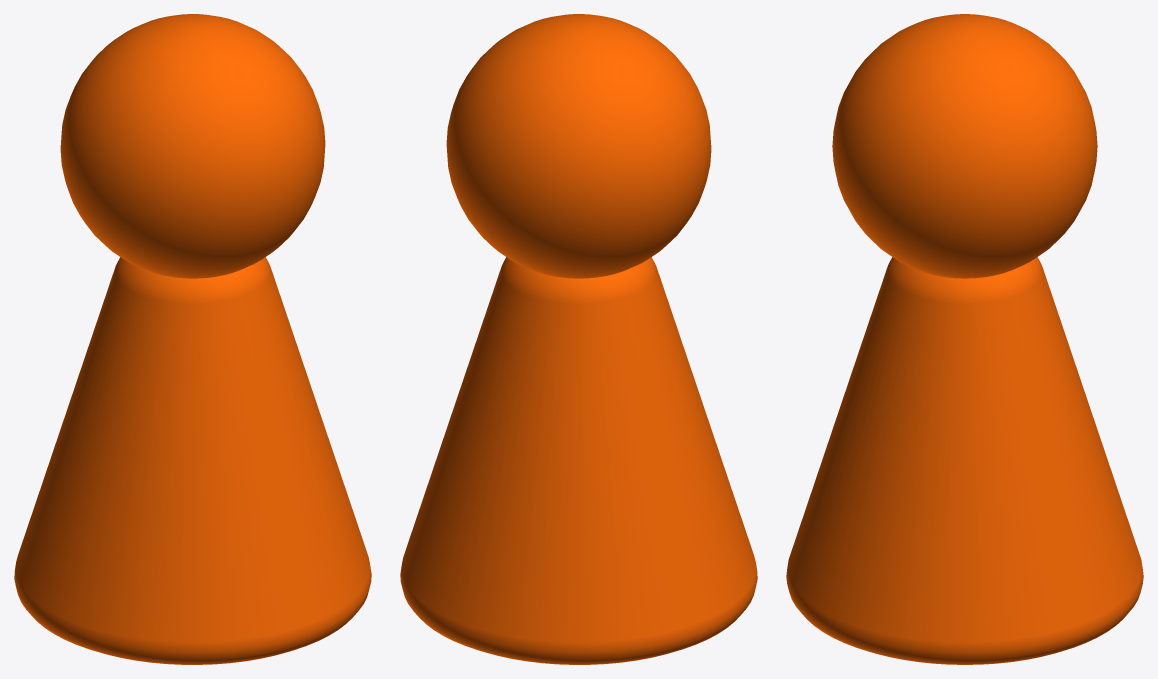
The model's file is Pawn.fbx.
The picture shows the model from 3 angles, left to right: view 1: azimuth 30°, elevation 25°; view 2: azimuth 150°, elevation 25°; view 3: azimuth 270°, elevation 25°; orthographic projection.
Parts seen in each view (by area): view 1: Pawn_Body, Pawn_Head; view 2: Pawn_Body, Pawn_Head; view 3: Pawn_Body, Pawn_Head.
Boxes of the visible parts, x1=… form: Pawn_Body: x1=14, y1=257, x2=371, y2=664; Pawn_Head: x1=60, y1=14, x2=325, y2=278; Pawn_Body: x1=400, y1=257, x2=757, y2=664; Pawn_Head: x1=446, y1=14, x2=711, y2=278; Pawn_Body: x1=786, y1=257, x2=1143, y2=664; Pawn_Head: x1=832, y1=14, x2=1097, y2=278.
Bounding box in the file's own units: 0.5525 × 0.975 × 0.5525.
